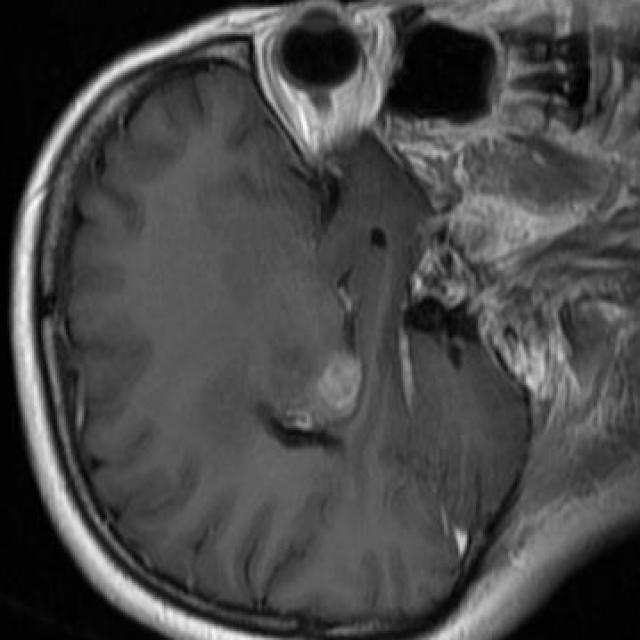glioma: (205, 187, 360, 447)
